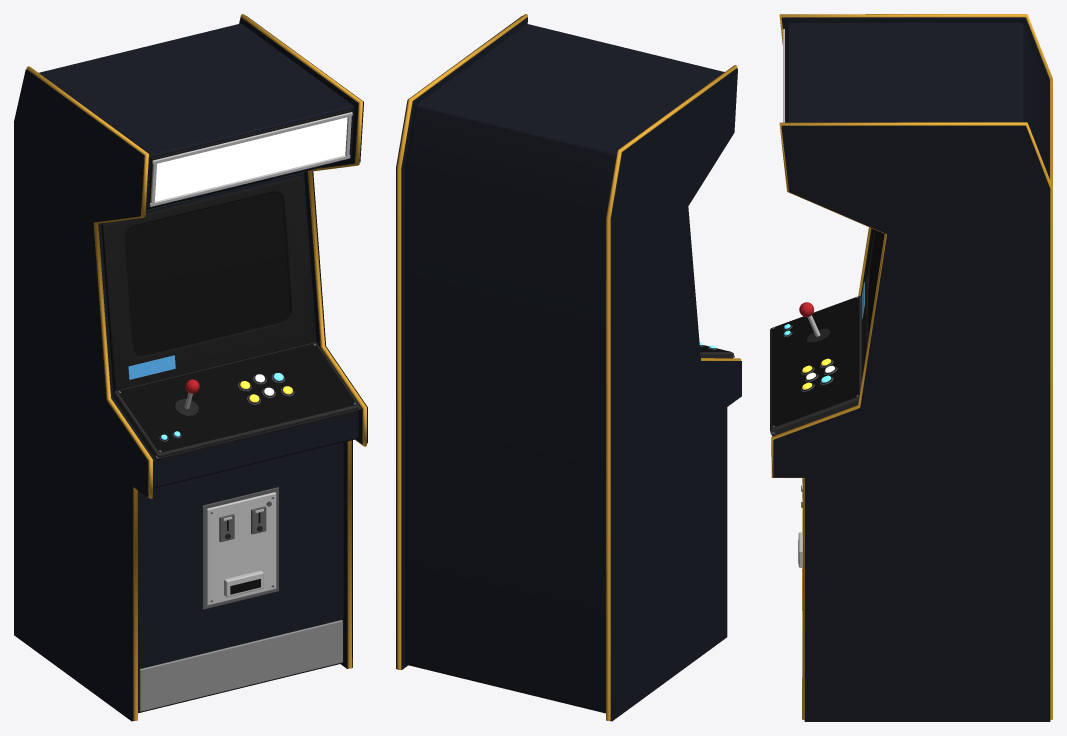
The model's file is cab-saute-survivors.glb.
3 renders of one model, left to right at view 1: azimuth 30°, elevation 25°; view 2: azimuth 150°, elevation 25°; view 3: azimuth 270°, elevation 25°, orthographic. The views are drawn at different scales.
Visible parts, largest first — view 1: side_art_l, body, front_art, screen, glass, controls, deck_art, metal, coin, trim, marquee, side_art_r (+1 smaller); view 2: body, side_art_l, trim, side_art_r; view 3: side_art_r, body, deck_art, trim, controls, screen, glass, joy.
Part boxes in pixels (x1=…): side_art_l: x1=14, y1=69, x2=147, y2=721; body: x1=27, y1=17, x2=362, y2=721; front_art: x1=140, y1=443, x2=341, y2=668; screen: x1=125, y1=192, x2=290, y2=355; glass: x1=125, y1=192, x2=291, y2=356; controls: x1=101, y1=109, x2=359, y2=461; deck_art: x1=117, y1=343, x2=357, y2=452; metal: x1=139, y1=112, x2=360, y2=711; coin: x1=202, y1=487, x2=278, y2=609; trim: x1=26, y1=14, x2=366, y2=720; marquee: x1=155, y1=117, x2=347, y2=201; side_art_r: x1=247, y1=16, x2=367, y2=667; body: x1=400, y1=17, x2=736, y2=721; side_art_l: x1=611, y1=68, x2=741, y2=721; trim: x1=397, y1=14, x2=740, y2=720; side_art_r: x1=396, y1=16, x2=521, y2=668; side_art_r: x1=773, y1=126, x2=1050, y2=721; body: x1=774, y1=17, x2=1049, y2=439; deck_art: x1=771, y1=296, x2=859, y2=427; trim: x1=771, y1=14, x2=1052, y2=719; controls: x1=770, y1=27, x2=875, y2=436; screen: x1=867, y1=230, x2=884, y2=340; glass: x1=866, y1=230, x2=883, y2=348; joy: x1=799, y1=302, x2=829, y2=342.
Bounding box in the file's own units: 0.763 × 1.91 × 0.8173.
